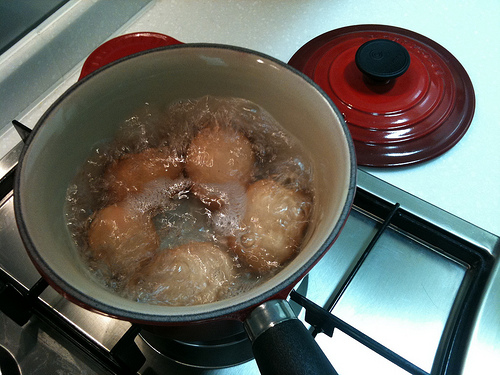egg: (230, 175, 317, 270), (82, 202, 154, 286), (184, 125, 255, 208), (149, 237, 227, 304), (106, 146, 179, 202)
